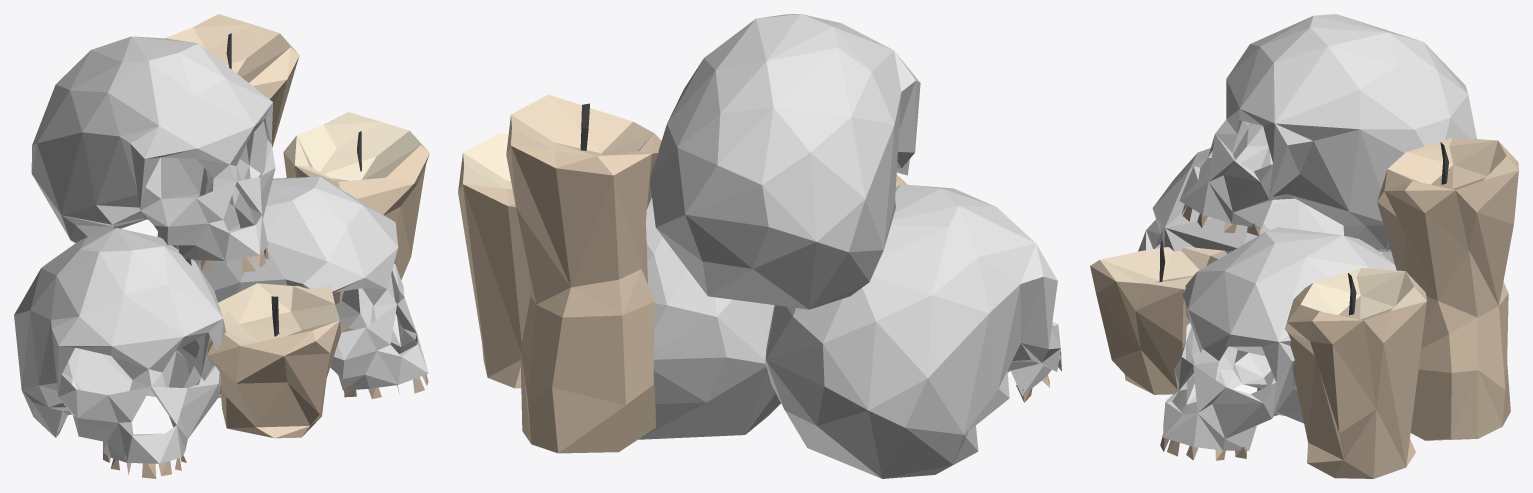
Rendered from HWN20_Skull&Candles_01.glb.
3 views of the same model, side by side, from view 1: azimuth 30°, elevation 25°; view 2: azimuth 150°, elevation 25°; view 3: azimuth 270°, elevation 25° (orthographic). The views are drawn at different scales.
Visible parts, largest first — view 1: HWN20_Skull&Candles_01; view 2: HWN20_Skull&Candles_01; view 3: HWN20_Skull&Candles_01.
Boxes of the visible parts, bbox=[...] form: HWN20_Skull&Candles_01: bbox=[14, 14, 429, 478]; HWN20_Skull&Candles_01: bbox=[458, 14, 1061, 478]; HWN20_Skull&Candles_01: bbox=[1090, 14, 1518, 478].
Size of what is drawn, in the model's own units: 0.688 by 0.5384 by 0.5839.
Materials: 1 (1 with a texture image).
